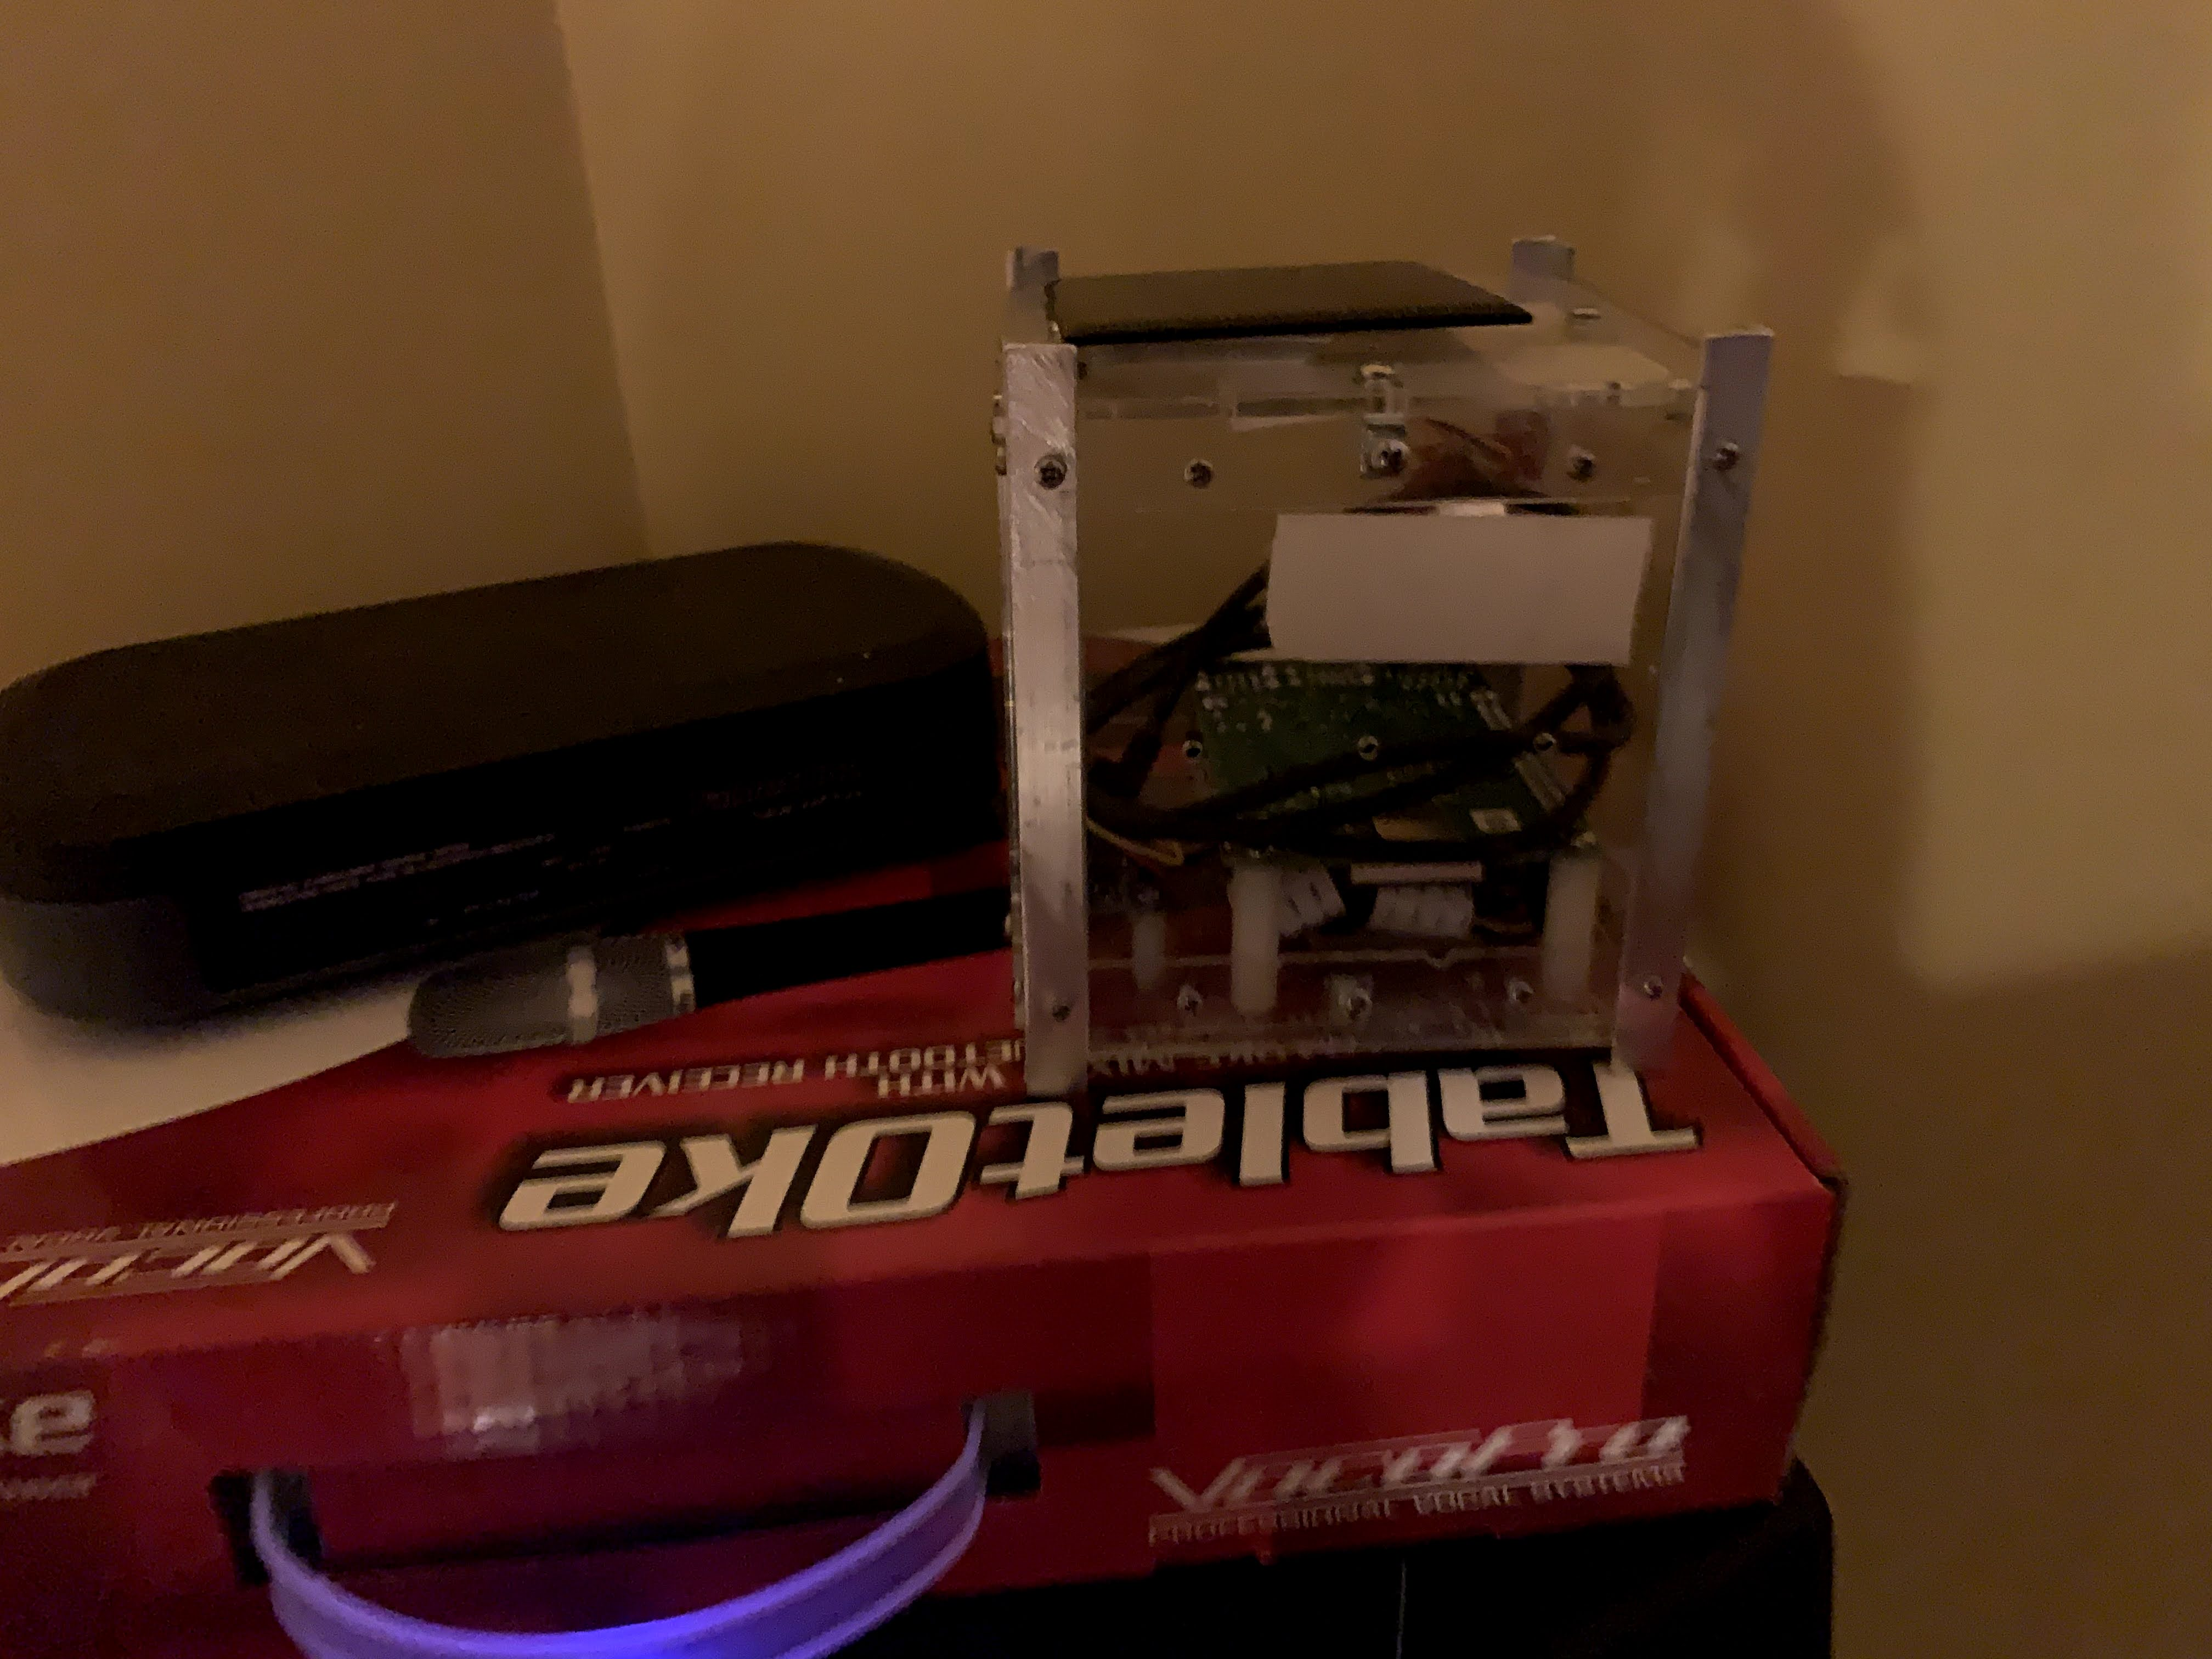Space-debris-cubesat: (981, 202, 1785, 1105)
